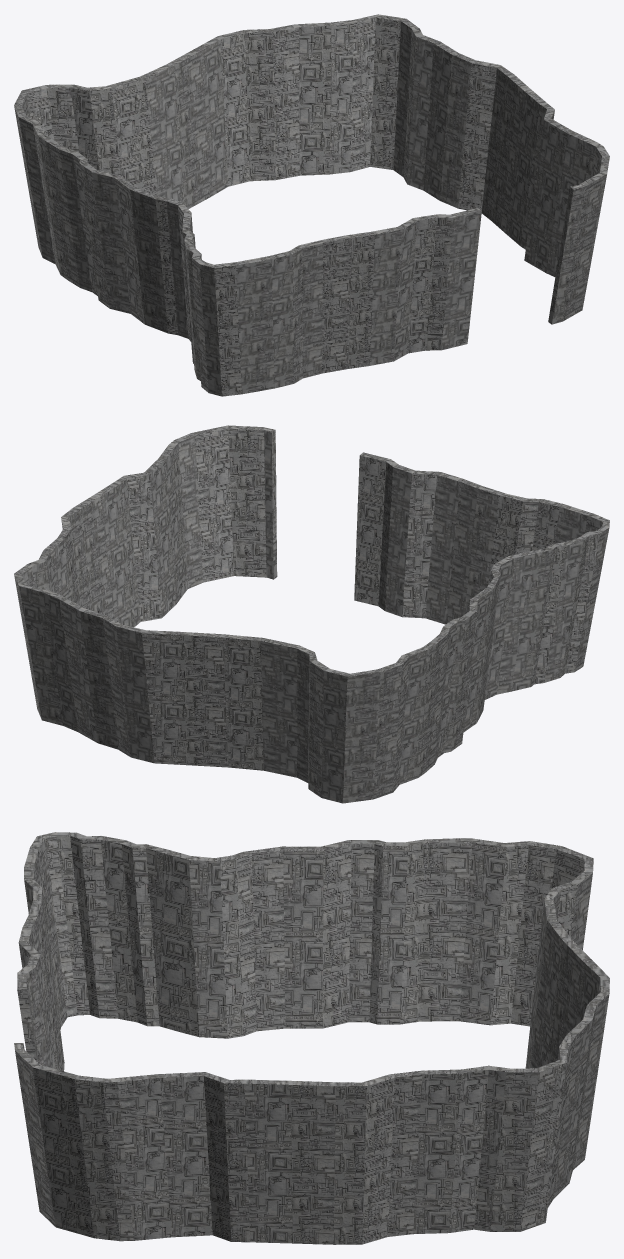
Rendered from Area1_StickyLedge.fbx.
3 renders of one model, top to bottom at view 1: azimuth 30°, elevation 25°; view 2: azimuth 150°, elevation 25°; view 3: azimuth 270°, elevation 25°, orthographic. The views are drawn at different scales.
Parts seen in each view (by area): view 1: Area1_StickyLedge; view 2: Area1_StickyLedge; view 3: Area1_StickyLedge.
Part boxes in pixels (left/top/right/bottom): Area1_StickyLedge: left=14, top=14, right=609, bottom=396; Area1_StickyLedge: left=14, top=425, right=609, bottom=803; Area1_StickyLedge: left=14, top=832, right=609, bottom=1244.
Size of the model in its own units: 3412 by 1058 by 3381.
Materials: 1 (1 with a texture image).
